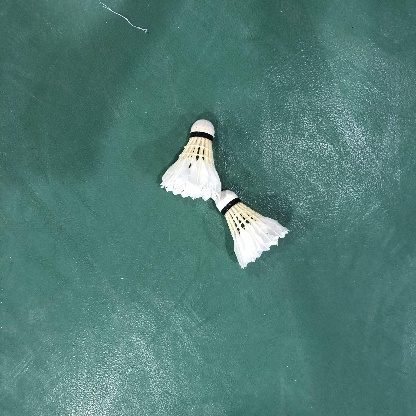ball_single: (215, 190, 290, 269), (160, 119, 221, 201)
